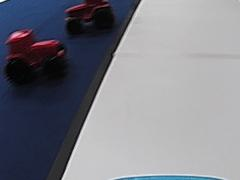Tracktor: (4, 24, 68, 83), (63, 0, 113, 32)
